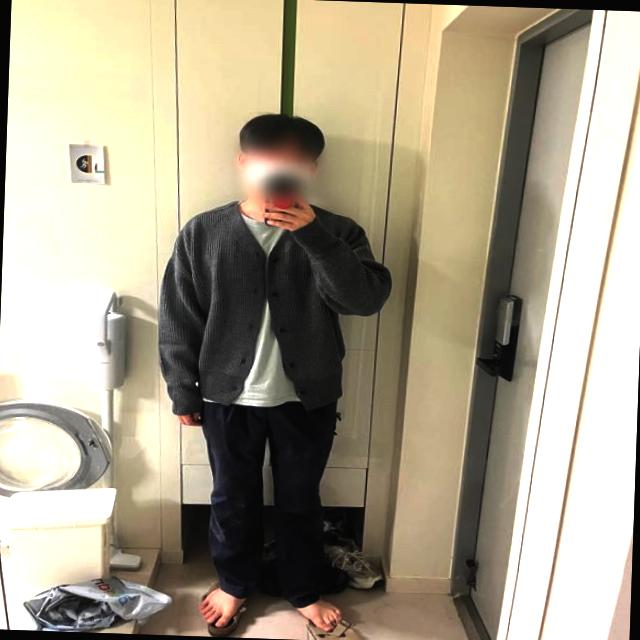cardigan: (156, 198, 396, 420), (175, 377, 342, 601)
